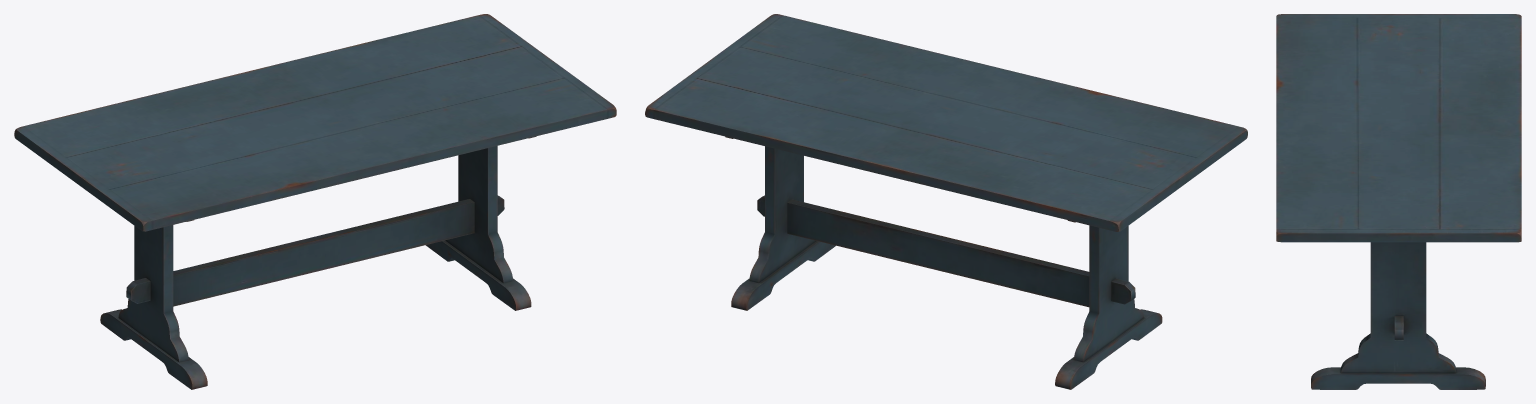
The model's file is painted_wooden_table.glb.
3 views of the same model, side by side, from view 1: azimuth 30°, elevation 25°; view 2: azimuth 150°, elevation 25°; view 3: azimuth 270°, elevation 25° (orthographic). The views are drawn at different scales.
Visible parts, largest first — view 1: painted_wooden_table; view 2: painted_wooden_table; view 3: painted_wooden_table.
Part boxes in pixels (<box>): painted_wooden_table: <box>14,14,616,389</box>; painted_wooden_table: <box>645,14,1247,389</box>; painted_wooden_table: <box>1276,14,1521,389</box>.
Size of the model in its own units: 2.41 by 0.9586 by 1.14.
1 material, 1 textured.
